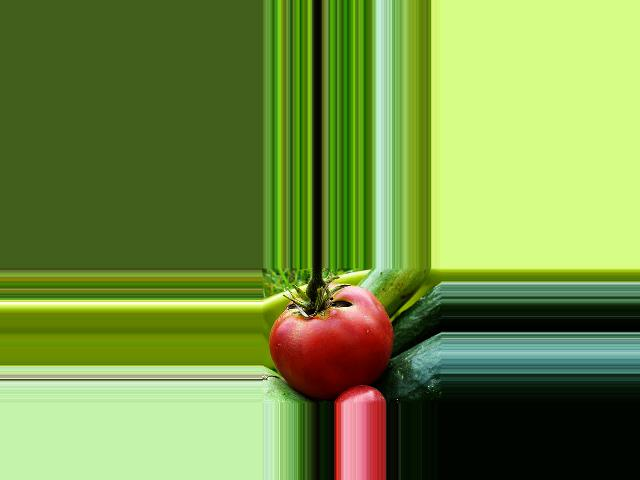tomato: (269, 285, 392, 401)
